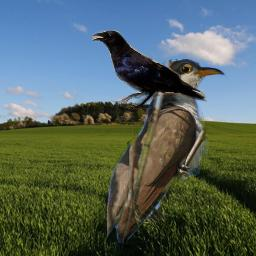Crow: (92, 30, 207, 109)
Cuckoo: (107, 59, 254, 243)
